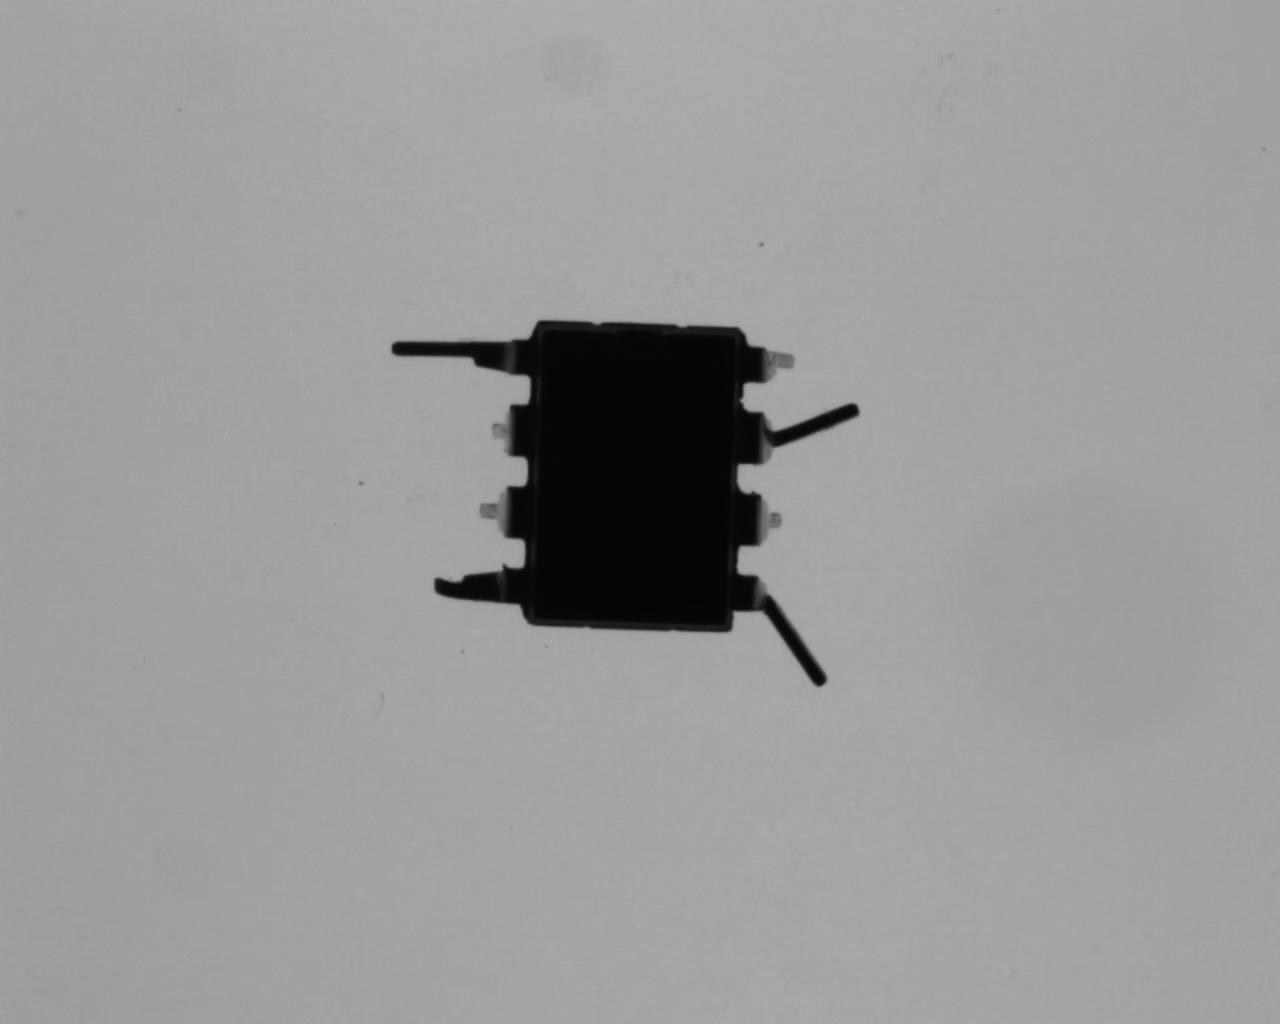Leg: (735, 567, 832, 696), (735, 397, 869, 473), (387, 331, 537, 388), (427, 559, 532, 608), (474, 483, 536, 540), (739, 484, 789, 554), (743, 338, 804, 392), (488, 396, 539, 459)
